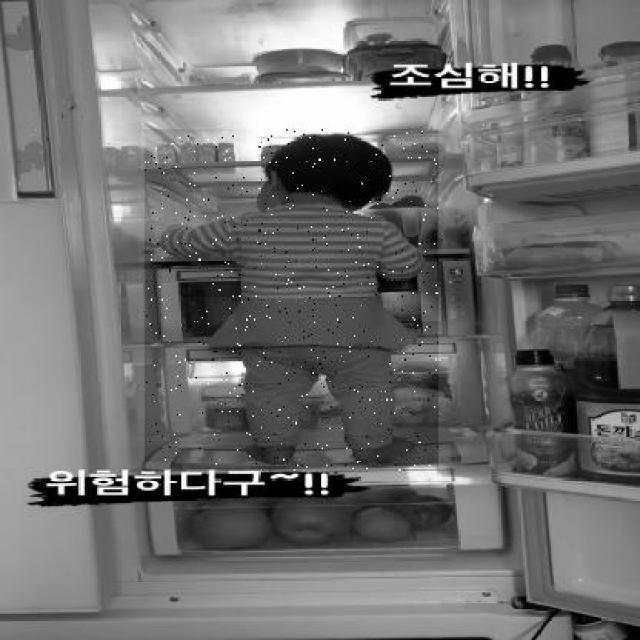child: (145, 129, 439, 471)
